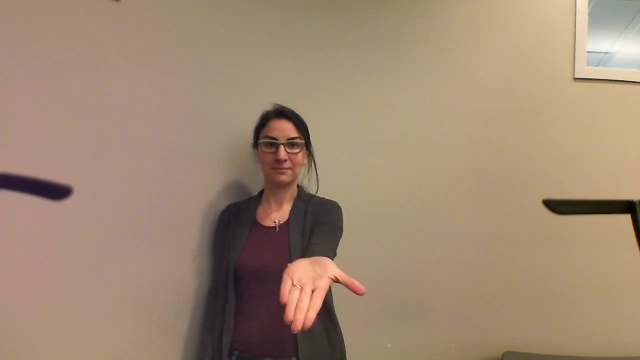land: (274, 248, 365, 332)
